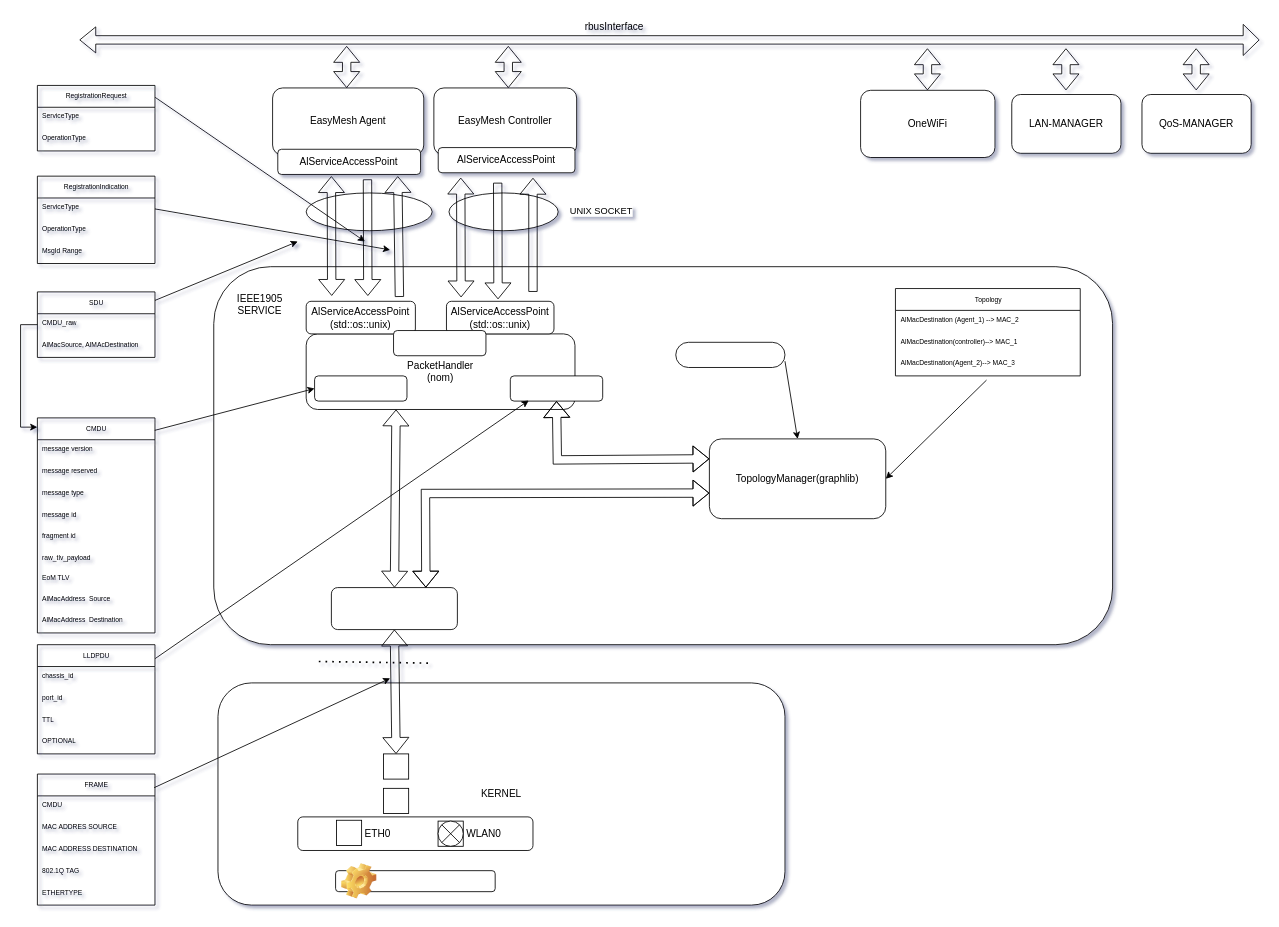
Some shapes in this 1279 by 927 pixel diagram are drawn without their labels. Each missing label, with the centre of its shape:
"(Tx/Rx)" belongs at point 415,881.
"BRLAN0" belongs at point 396,801.
"CMDU_handler (nom)" belongs at point 360,388.
"Controls: lldpdu" belongs at point 730,354.
"LLDPDU_handler (nom)" belongs at point 556,388.
"PacketForwarder (pnet)" belongs at point 394,608.
"SDU_handler (nom)" belongs at point 439,343.
"veth0" belongs at point 396,766.
